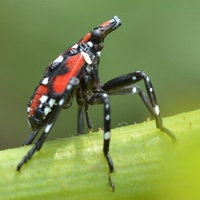insect: (16, 16, 175, 172)
